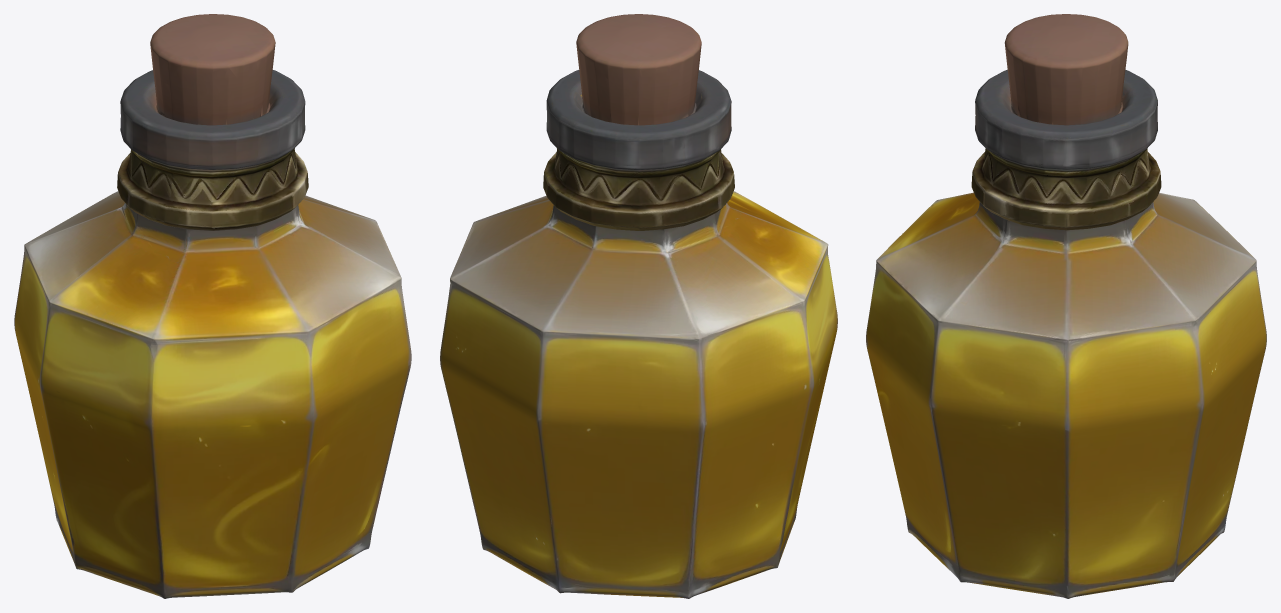
Rendered from CleansingTonic.glb.
The picture shows the model from 3 angles, left to right: view 1: azimuth 30°, elevation 25°; view 2: azimuth 150°, elevation 25°; view 3: azimuth 270°, elevation 25°; orthographic projection.
Parts seen in each view (by area): view 1: node_0; view 2: node_0; view 3: node_0.
Boxes of the visible parts, x1,y1,x2,y2 form: node_0: (14,14,411,598); node_0: (440,14,837,598); node_0: (866,14,1266,598).
Bounding box in the file's own units: 0.752 × 1.04 × 0.758.
1 material, 1 textured.
